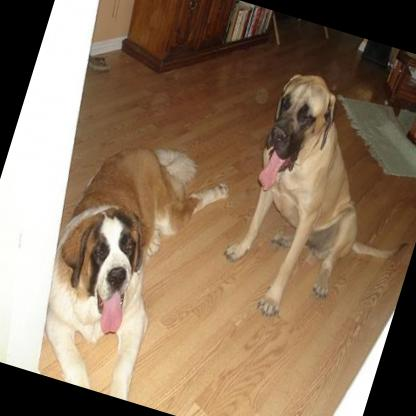Saint_Bernard: (18, 118, 238, 409), (208, 62, 416, 348)
